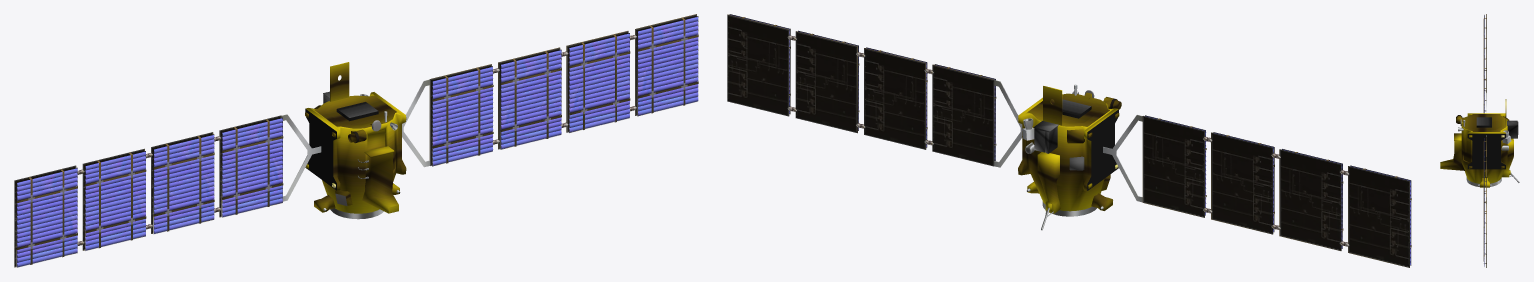
3 views of the same model, side by side, from view 1: azimuth 30°, elevation 25°; view 2: azimuth 150°, elevation 25°; view 3: azimuth 270°, elevation 25° (orthographic). The views are drawn at different scales.
Visible parts, largest first — view 1: shiny_panel, tex_01, foil_gold, black_krinkle, foil_silver; view 2: tex_01, foil_gold, black_krinkle, foil_silver, shiny_panel; view 3: foil_gold, black_krinkle, tex_01, foil_silver, shiny_panel.
Part boxes in pixels (x1=…): shiny_panel: x1=17, y1=17, x2=698, y2=267; tex_01: x1=14, y1=14, x2=698, y2=267; foil_gold: x1=305, y1=62, x2=406, y2=213; black_krinkle: x1=305, y1=109, x2=378, y2=190; foil_silver: x1=323, y1=91, x2=377, y2=178; tex_01: x1=727, y1=14, x2=1411, y2=267; foil_gold: x1=1018, y1=86, x2=1121, y2=213; black_krinkle: x1=1062, y1=106, x2=1118, y2=190; foil_silver: x1=1033, y1=99, x2=1090, y2=170; shiny_panel: x1=730, y1=14, x2=1410, y2=265; foil_gold: x1=1440, y1=99, x2=1513, y2=187; black_krinkle: x1=1467, y1=125, x2=1505, y2=169; tex_01: x1=1456, y1=14, x2=1519, y2=267; foil_silver: x1=1476, y1=117, x2=1518, y2=138; shiny_panel: x1=1484, y1=15, x2=1484, y2=266.
Size of the model in its own units: 11.8 by 2.22 by 1.96.
Materials: 5 (4 with a texture image).
